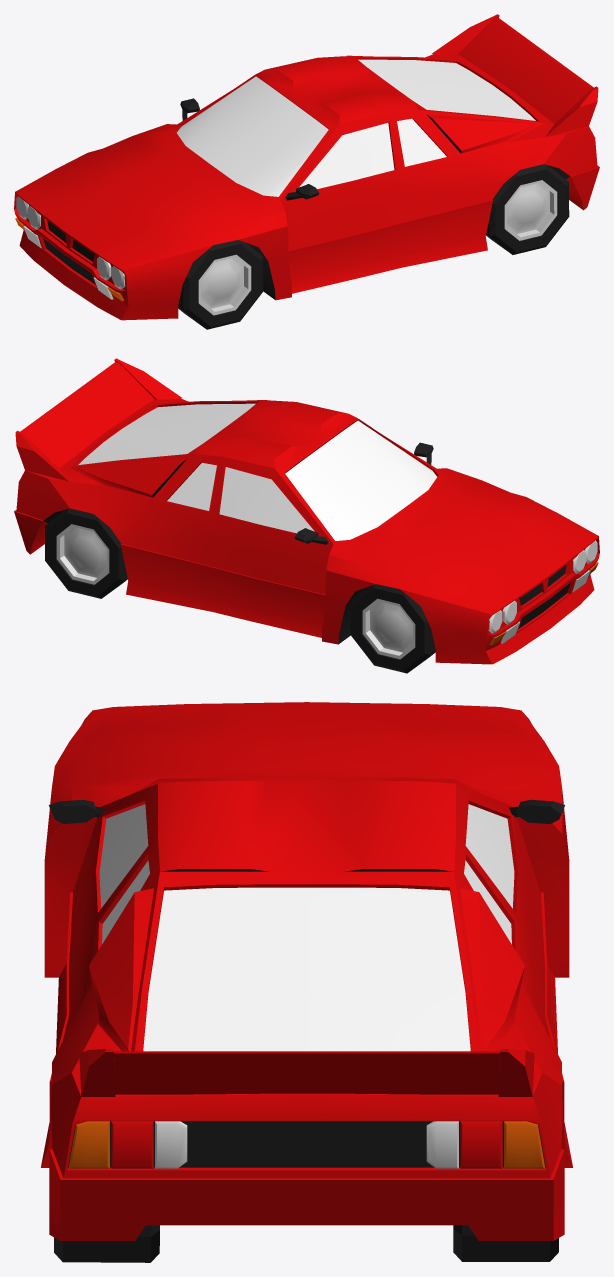
File: Lancia_037_01.fbx
3 views of the same model, one above another, from view 1: azimuth 30°, elevation 25°; view 2: azimuth 150°, elevation 25°; view 3: azimuth 270°, elevation 25° (orthographic). The views are drawn at different scales.
Visible parts, largest first — view 1: Body, Wheels.002, Wheels.003; view 2: Body, Wheels.001, Wheels.004; view 3: Body, Wheels.003, Wheels.004.
Part boxes in pixels (x1=…): Body: x1=14, y1=14, x2=599, y2=320; Wheels.002: x1=178, y1=240, x2=263, y2=329; Wheels.003: x1=486, y1=164, x2=569, y2=254; Body: x1=14, y1=358, x2=599, y2=664; Wheels.001: x1=350, y1=584, x2=435, y2=673; Wheels.004: x1=45, y1=508, x2=127, y2=598; Body: x1=41, y1=702, x2=572, y2=1240; Wheels.003: x1=54, y1=1225, x2=159, y2=1262; Wheels.004: x1=453, y1=1225, x2=558, y2=1261.
Bounding box in the file's own units: 396 × 121 × 188.
